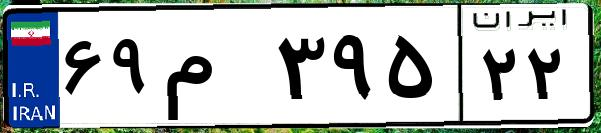2: (475, 38, 525, 113), (525, 38, 570, 115)
3: (270, 28, 330, 110)
5: (385, 28, 445, 110)
6: (57, 26, 110, 100)
9: (330, 28, 385, 110), (110, 28, 158, 98)
م: (158, 20, 270, 120)
